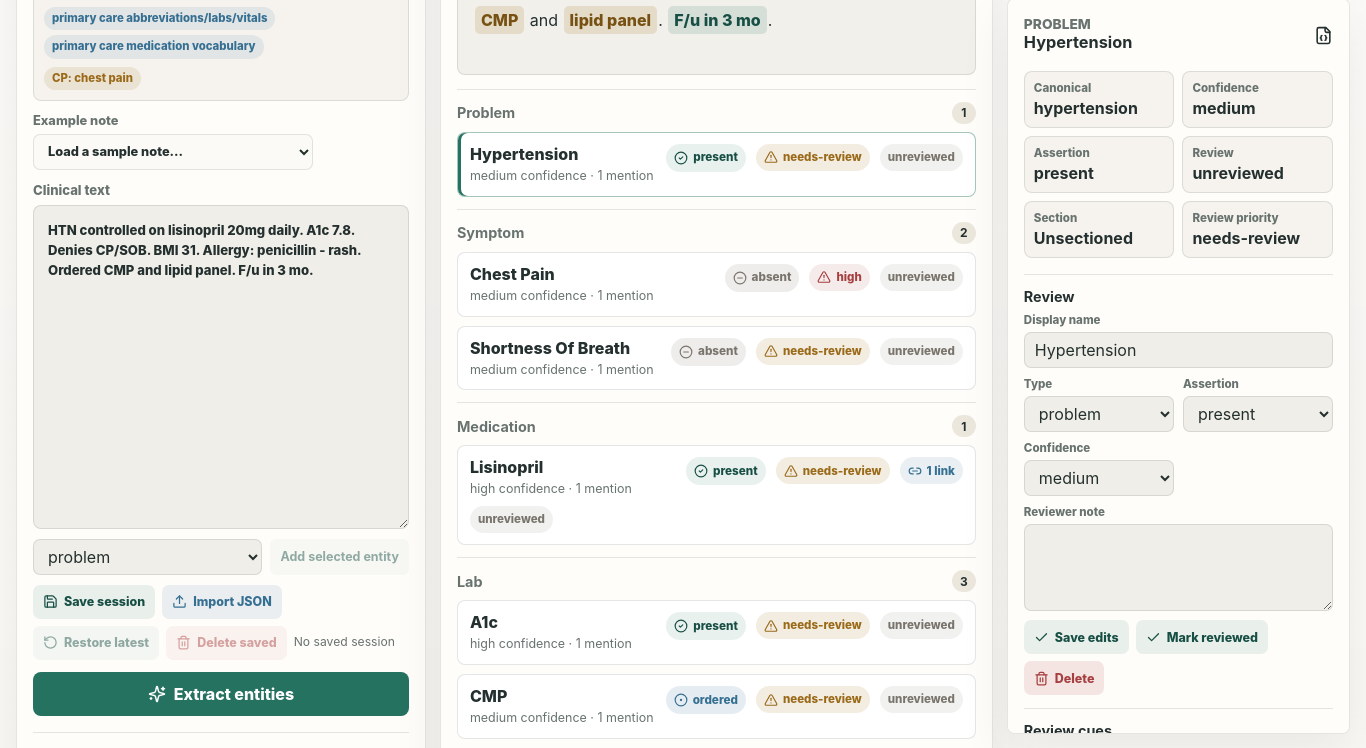
it: ClinicalEntityExtractorPrototype › clears extracted entities when the source text is deleted
(page scrolled)
Check: the text "Hypertension" is shown, box [470,144,578,164]
Clear the text box labelled "Clinical text" at (221, 367), box [33,205,409,529]
(page scrolled)
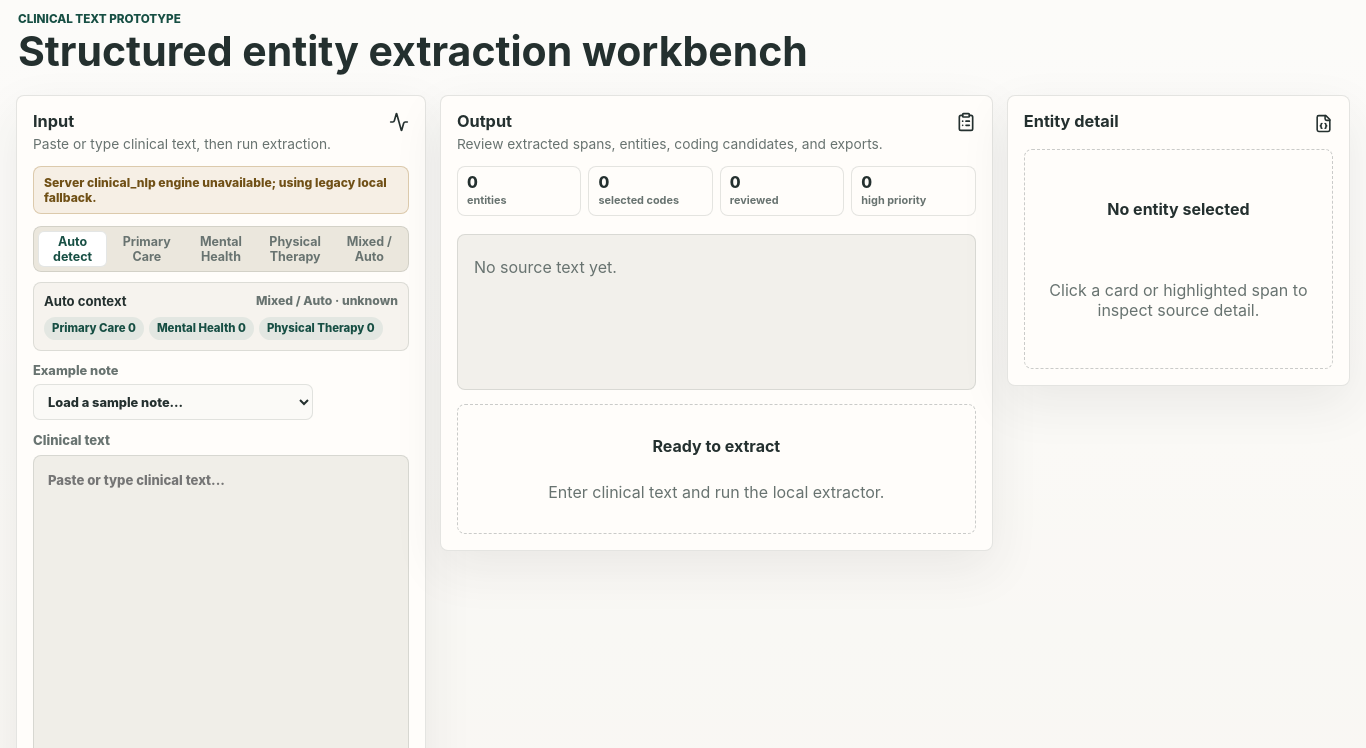
Check: the text "Ready to extract" is shown, box [652,436,780,456]
Check: the text "No entity selected" is shown, box [1107,199,1250,219]
Check: the text "No source text yet." is shown, box [474,257,617,277]
